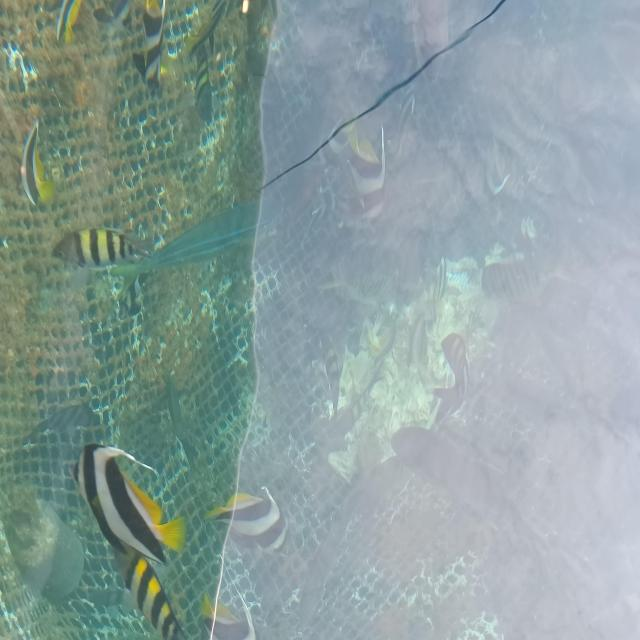ikan: (69, 441, 187, 567), (115, 543, 187, 639), (203, 485, 288, 554), (51, 226, 154, 270), (430, 331, 470, 427), (19, 118, 55, 208), (199, 589, 255, 639), (54, 0, 82, 44)
